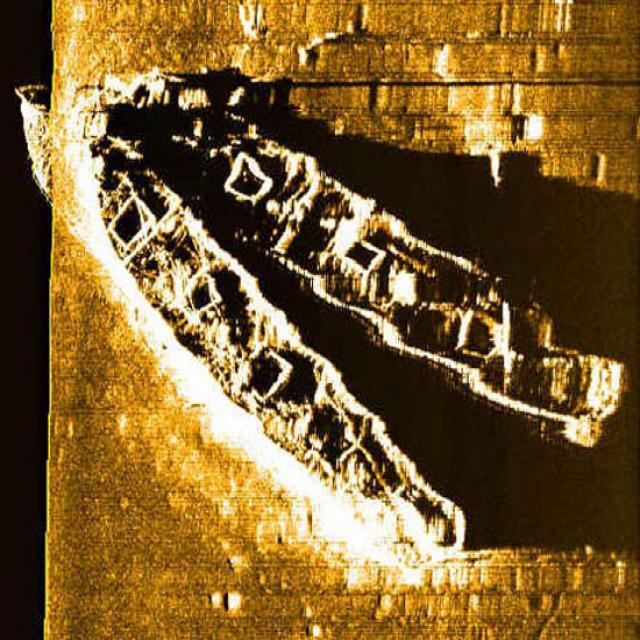ship: (144, 72, 626, 453), (76, 133, 466, 553)
